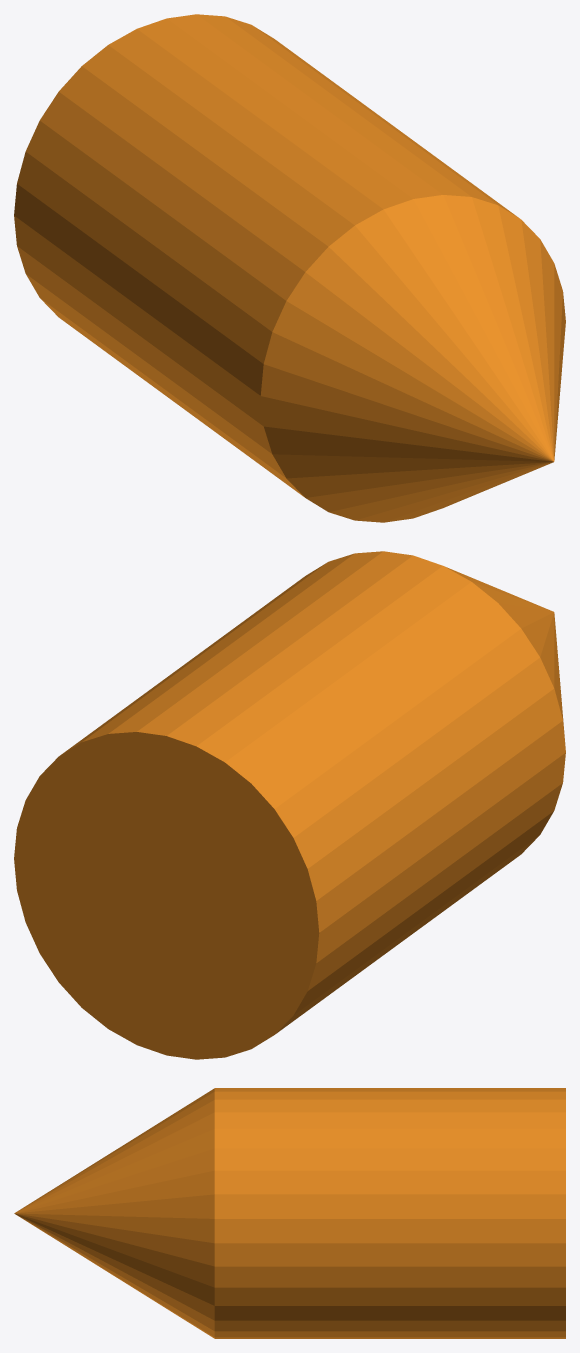
File: rocket.glb
3 views of the same model, one above another, from view 1: azimuth 30°, elevation 25°; view 2: azimuth 150°, elevation 25°; view 3: azimuth 270°, elevation 25° (orthographic). The views are drawn at different scales.
Parts seen in each view (by area): view 1: Cylinder.161, Cone.004; view 2: Cylinder.161, Cone.004; view 3: Cylinder.161, Cone.004.
Boxes of the visible parts, x1,y1,x2,y2 form: Cylinder.161: (14,14,519,497); Cone.004: (260,195,565,522); Cylinder.161: (14,551,565,1059); Cone.004: (444,566,565,746); Cylinder.161: (214,1088,565,1338); Cone.004: (14,1088,214,1338).
Bounding box in the file's own units: 5 × 5 × 11.
